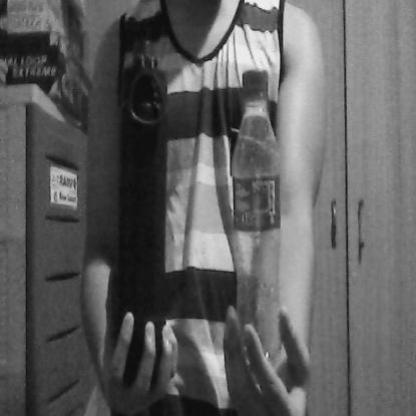Plastic Bottle: (226, 58, 291, 387)
